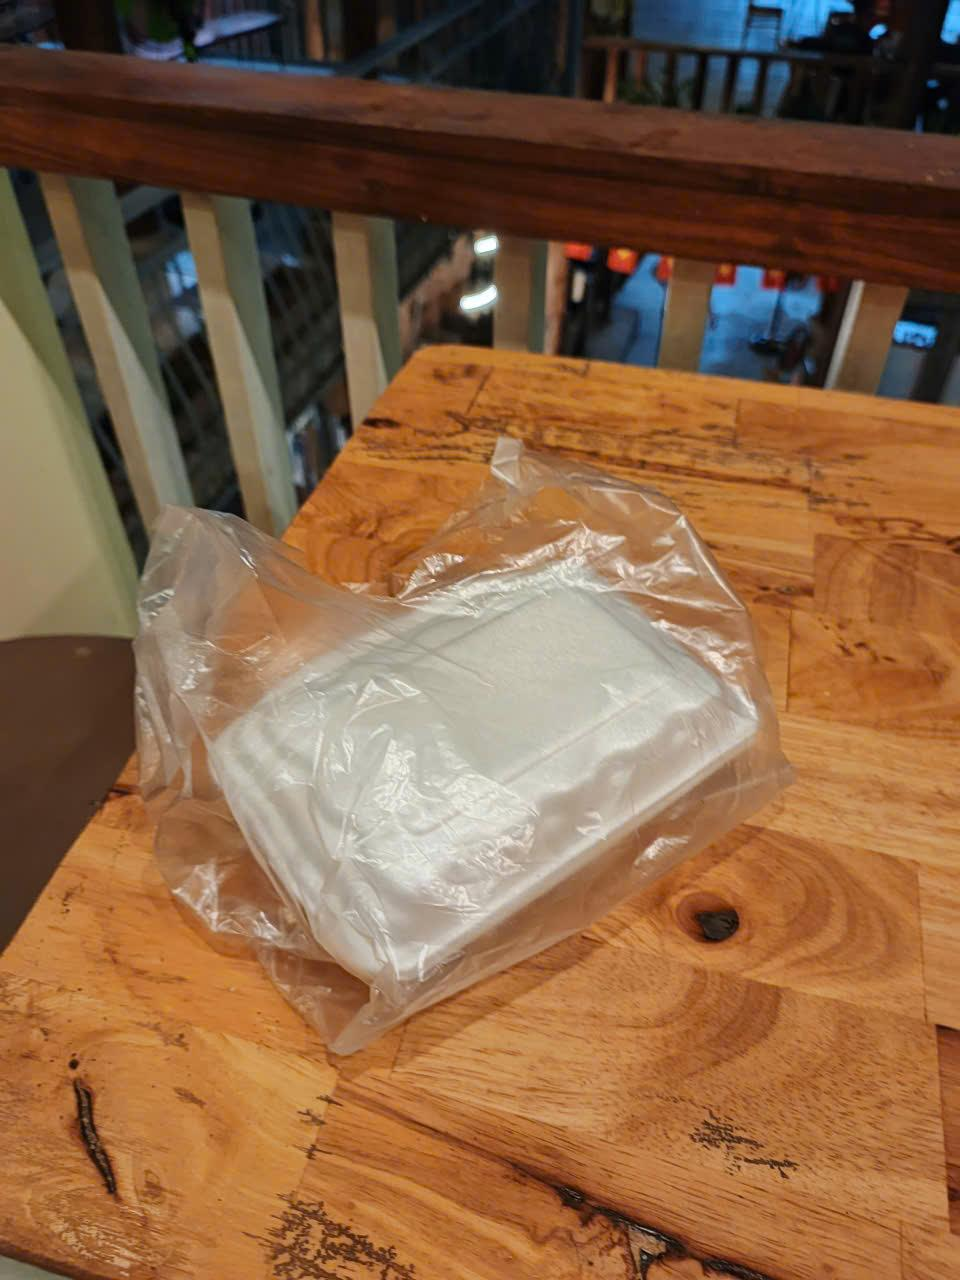Con lai: (198, 555, 762, 1005)
